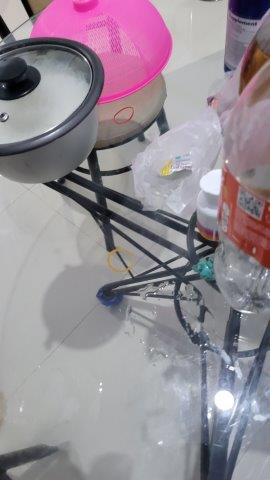botolplastik: (216, 48, 270, 316)
karet: (108, 249, 137, 270), (113, 106, 135, 125)
